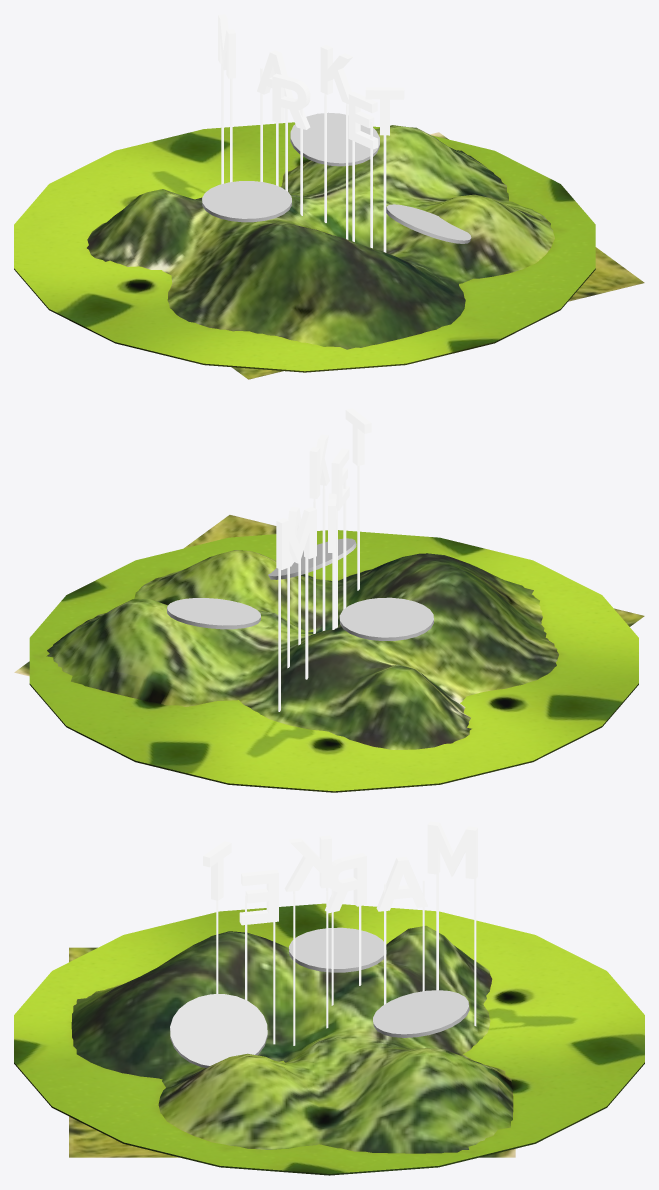
The model's file is Market_GEO_BAKED_materials_only.glb.
The picture shows the model from 3 angles, top to bottom: view 1: azimuth 30°, elevation 25°; view 2: azimuth 150°, elevation 25°; view 3: azimuth 270°, elevation 25°; orthographic projection. The views are drawn at different scales.
Parts seen in each view (by area): view 1: Market_mound, Market_block_letters, Market_discs; view 2: Market_mound, Market_block_letters, Market_discs; view 3: Market_mound, Market_block_letters, Market_discs.
Part boxes in pixels (<box>): Market_mound: <box>14,122,644,379</box>; Market_block_letters: <box>218,14,404,252</box>; Market_discs: <box>202,112,471,243</box>; Market_mound: <box>14,515,644,792</box>; Market_block_letters: <box>276,408,371,711</box>; Market_discs: <box>167,538,433,640</box>; Market_mound: <box>14,903,644,1175</box>; Market_block_letters: <box>203,821,477,1045</box>; Market_discs: <box>170,927,469,1067</box>.
Size of the model in its own units: 7.92 by 4.17 by 7.8.
4 materials, 1 textured.
